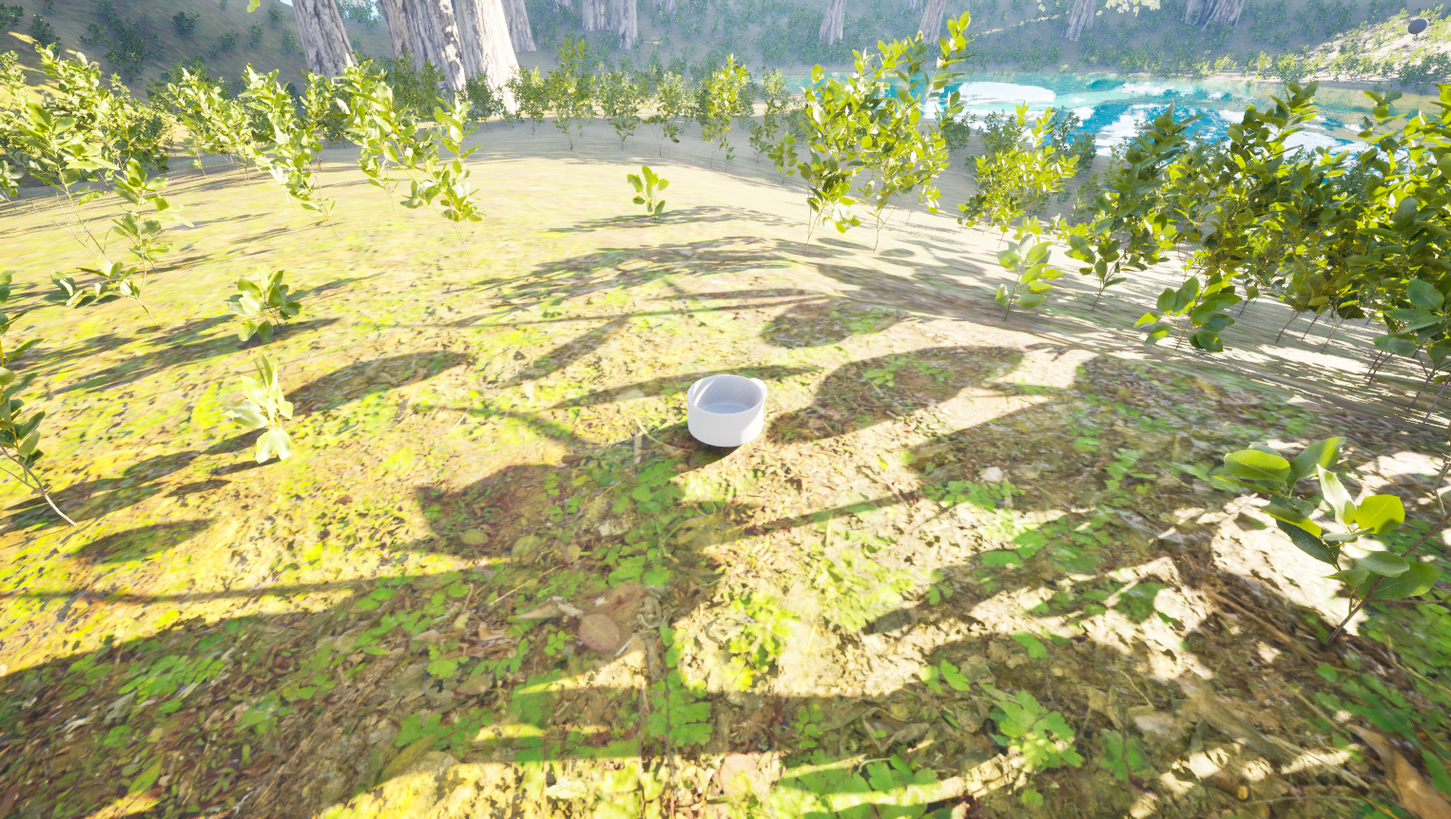Teacup: (682, 370, 785, 452)
